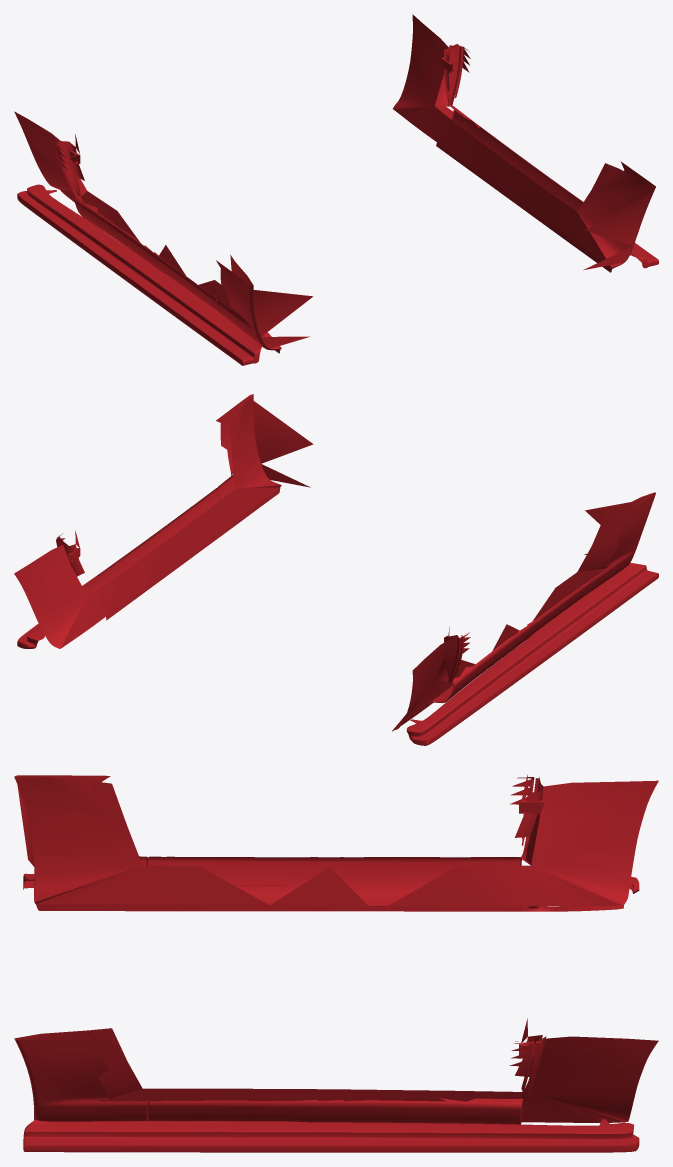
3 views of the same model, one above another, from view 1: azimuth 30°, elevation 25°; view 2: azimuth 150°, elevation 25°; view 3: azimuth 270°, elevation 25° (orthographic). The views are drawn at different scales.
Visible parts, largest first — view 1: SideskirtsFW_StockRocker, Miata_Aero_SideskirtsFW; view 2: SideskirtsFW_StockRocker, Miata_Aero_SideskirtsFW; view 3: SideskirtsFW_StockRocker, Miata_Aero_SideskirtsFW.
Boxes of the visible parts, x1,y1,x2,y2 form: SideskirtsFW_StockRocker: (14,14,655,353); Miata_Aero_SideskirtsFW: (17,106,658,365); SideskirtsFW_StockRocker: (14,394,655,731); Miata_Aero_SideskirtsFW: (17,563,658,745); SideskirtsFW_StockRocker: (14,774,658,1124); Miata_Aero_SideskirtsFW: (23,873,639,1152).
Bounding box in the file's own units: 69.15 × 14.58 × 69.4.
